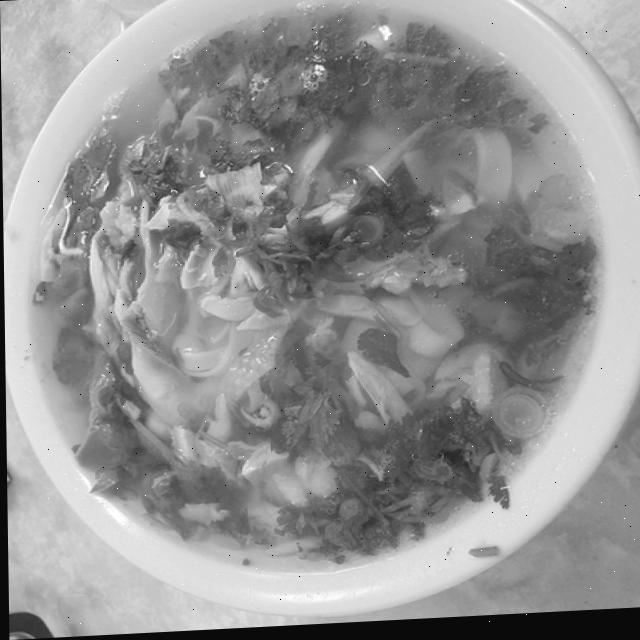面条主食: (8, 0, 640, 622)
